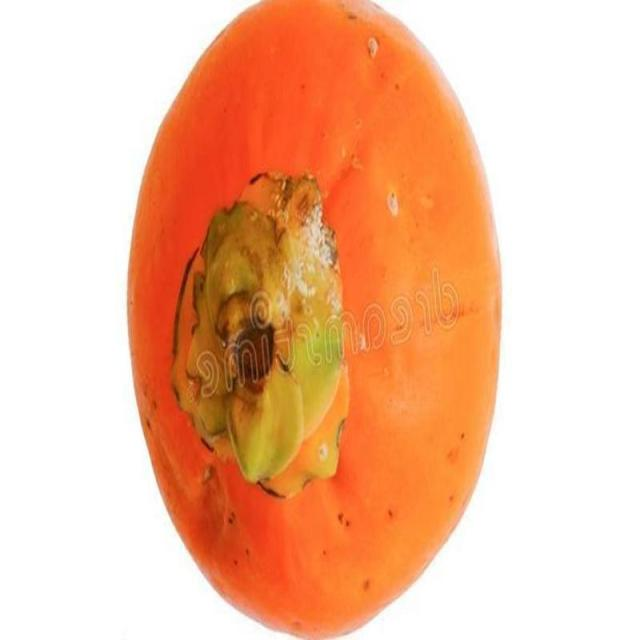good: (125, 0, 505, 639)
